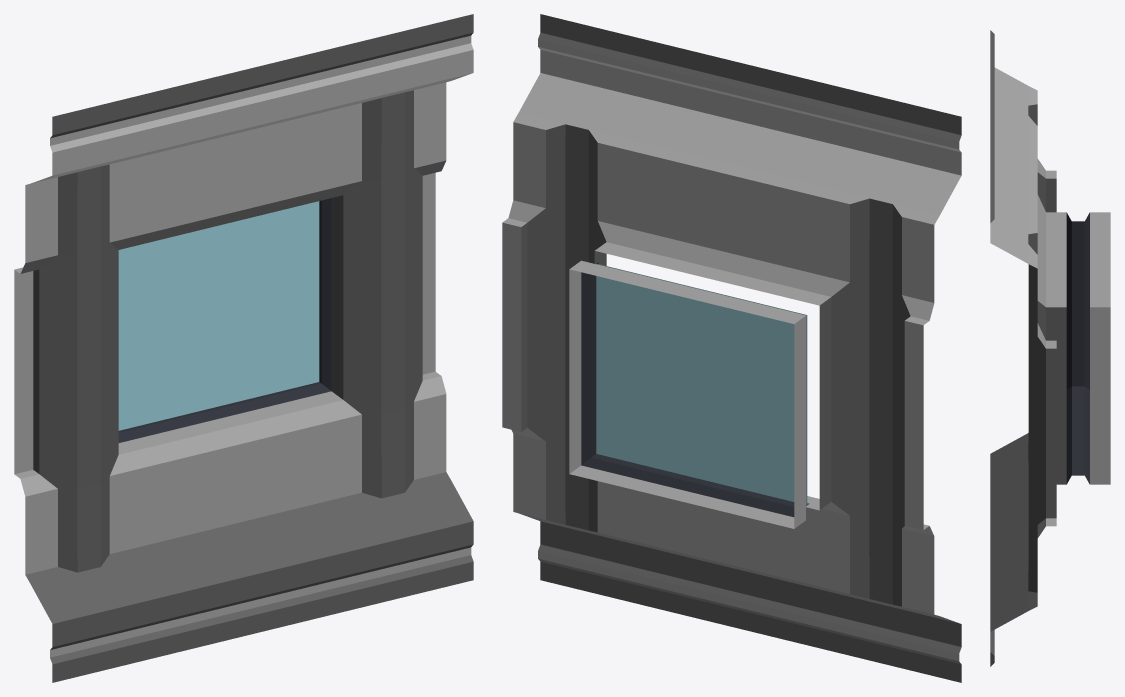
Rendered from SM_WallSectionWindow (1).fbx.
3 renders of one model, left to right at view 1: azimuth 30°, elevation 25°; view 2: azimuth 150°, elevation 25°; view 3: azimuth 270°, elevation 25°, orthographic. The views are drawn at different scales.
Visible parts, largest first — view 1: SM_WallSectionWindow; view 2: SM_WallSectionWindow; view 3: SM_WallSectionWindow.
Boxes of the visible parts, <box> form: SM_WallSectionWindow: <box>14,14,473,682</box>; SM_WallSectionWindow: <box>502,14,961,682</box>; SM_WallSectionWindow: <box>990,30,1110,666</box>.
Bounding box in the file's own units: 200 × 257 × 56.94.
